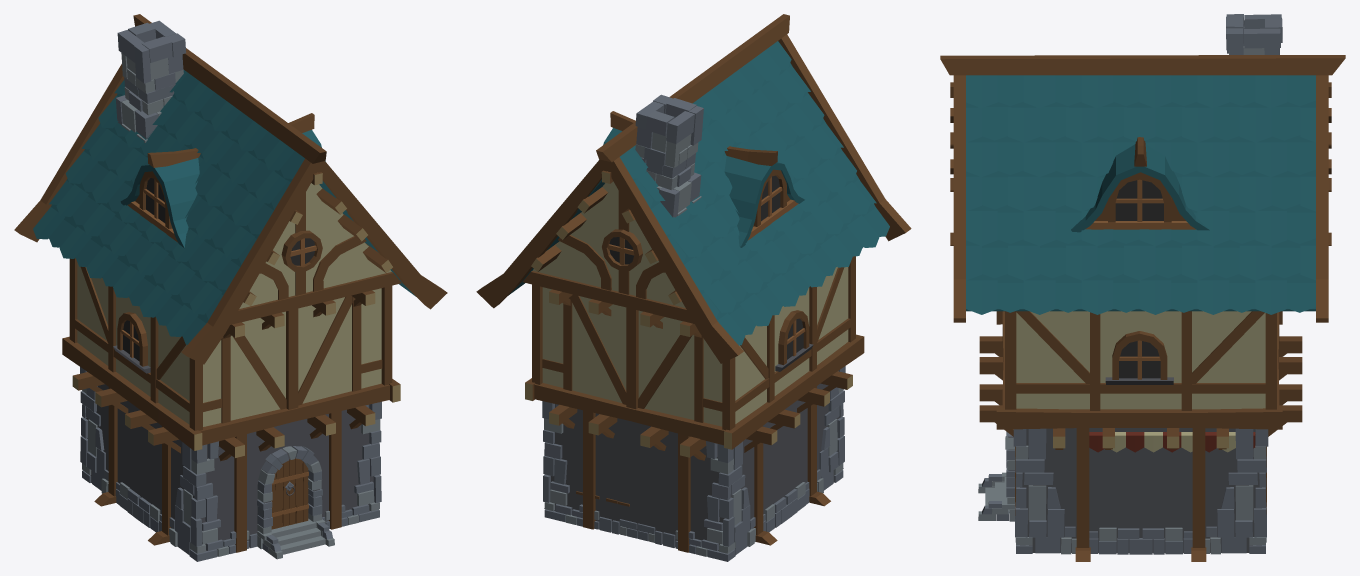
File: london_trade_1.glb
The picture shows the model from 3 angles, left to right: view 1: azimuth 30°, elevation 25°; view 2: azimuth 150°, elevation 25°; view 3: azimuth 270°, elevation 25°; orthographic projection. The views are drawn at different scales.
Parts seen in each view (by area): view 1: House_1; view 2: House_1; view 3: House_1, MarketStand_1.
Boxes of the visible parts, x1,y1,x2,y2 form: House_1: [14, 14, 447, 561]; House_1: [476, 14, 911, 561]; House_1: [940, 14, 1345, 561]; MarketStand_1: [1089, 432, 1255, 452].
Size of the model in its own units: 11.36 by 17.99 by 14.09.
